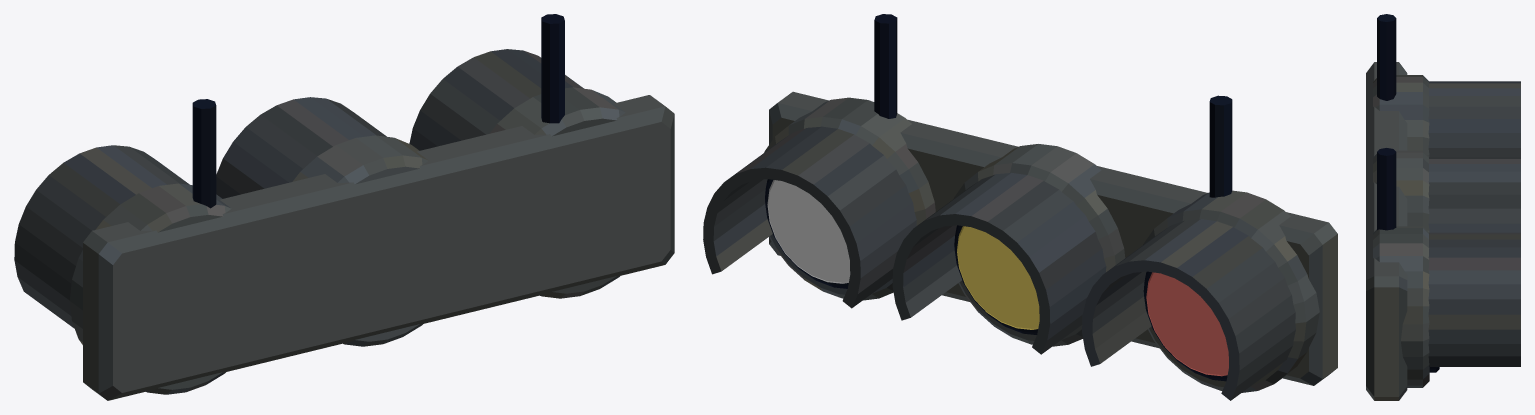
The model's file is HK_Signal_Car.fbx.
The picture shows the model from 3 angles, left to right: view 1: azimuth 30°, elevation 25°; view 2: azimuth 150°, elevation 25°; view 3: azimuth 270°, elevation 25°; orthographic projection. The views are drawn at different scales.
Visible parts, largest first — view 1: HK_Signal_Car_Housing; view 2: HK_Signal_Car_Housing, HK_Signal_Car_GreenLight, HK_Signal_Car_YellowLight, HK_Signal_Car_RedLight; view 3: HK_Signal_Car_Housing.
Boxes of the visible parts, bbox=[...] form: HK_Signal_Car_Housing: bbox=[14, 14, 674, 400]; HK_Signal_Car_Housing: bbox=[703, 14, 1337, 400]; HK_Signal_Car_GreenLight: bbox=[767, 180, 850, 283]; HK_Signal_Car_YellowLight: bbox=[957, 226, 1039, 329]; HK_Signal_Car_RedLight: bbox=[1146, 272, 1228, 376]; HK_Signal_Car_Housing: bbox=[1366, 14, 1520, 400].
Bounding box in the file's own units: 1.52 × 0.705 × 0.45.
